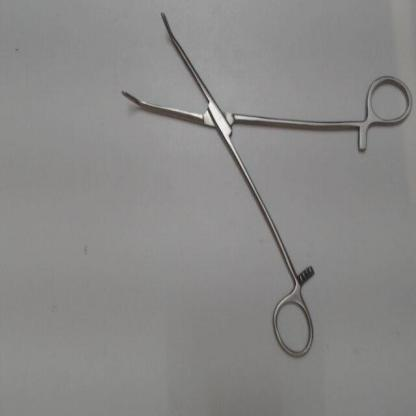Lahey Forceps: (114, 8, 415, 361)
